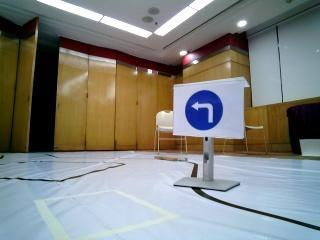left: (180, 77, 243, 130)
